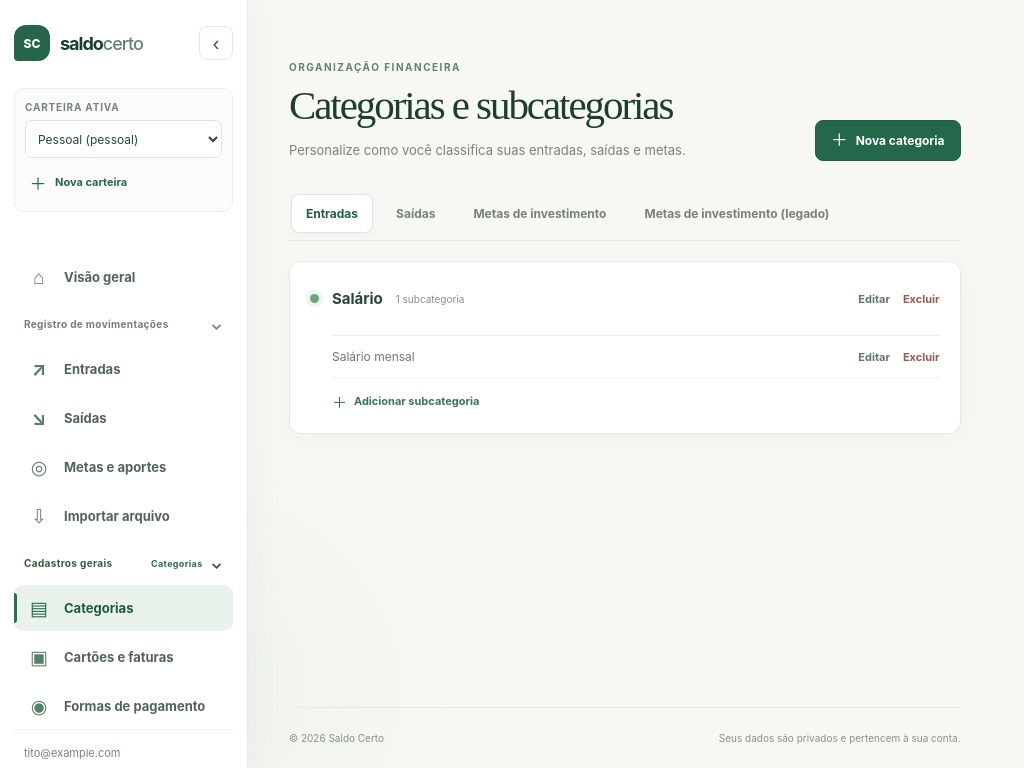
Test: CategoriesPage duplicate names › explains a linked-category deletion conflict and preserves the category
Check: the dropdown labelled "Carteira ativa" is shown, box [25,120,222,158]
Click the 1st button "Excluir".
click(921, 299)  # box [903,287,940,311]
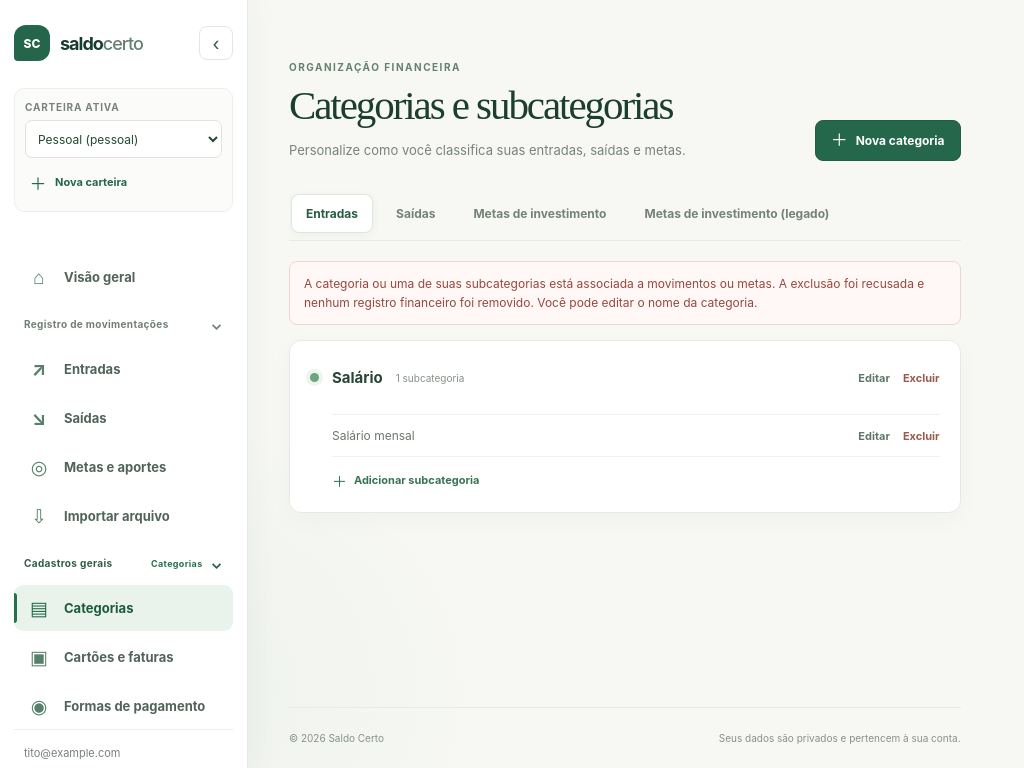
Check: the heading "Salário" is shown, box [332,368,383,388]
Check: the message shows "nenhum registro financeiro foi removido. Você pode editar o nome", box [304,276,924,310]
